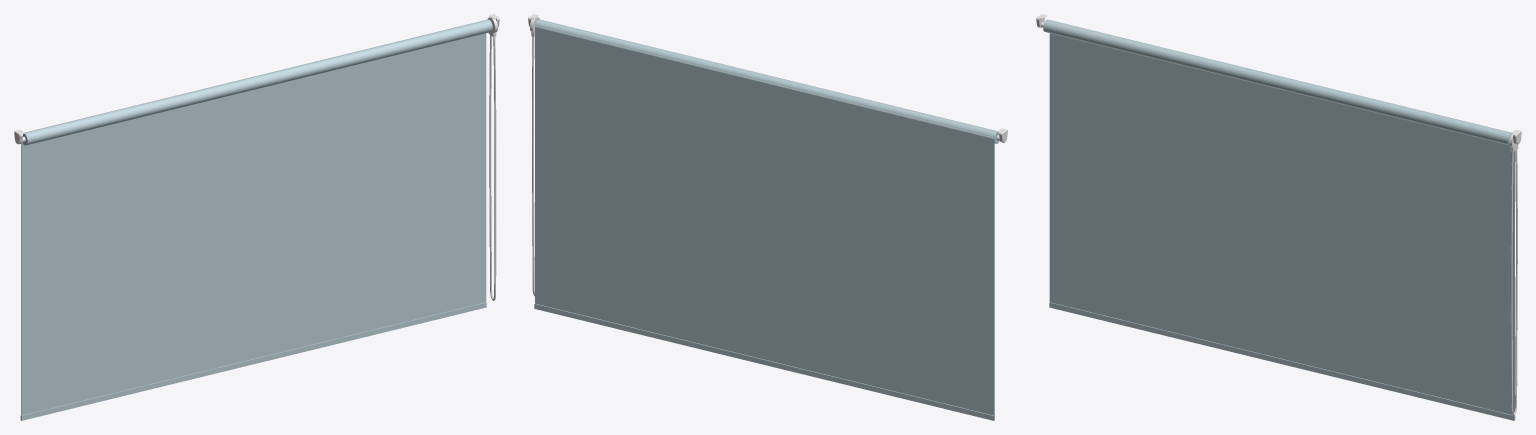
The model's file is Cortinas_MatiasS_46956256.fbx.
3 views of the same model, side by side, from view 1: azimuth 30°, elevation 25°; view 2: azimuth 150°, elevation 25°; view 3: azimuth 330°, elevation 25° (orthographic).
Parts seen in each view (by area): view 1: Blackout; view 2: Blackout; view 3: Blackout.
Boxes of the visible parts, x1,y1,x2,y2 form: Blackout: [14, 14, 499, 420]; Blackout: [528, 14, 1007, 420]; Blackout: [1036, 14, 1521, 420].
Bounding box in the file's own units: 299 × 174 × 8.71.
1 material, 1 textured.
